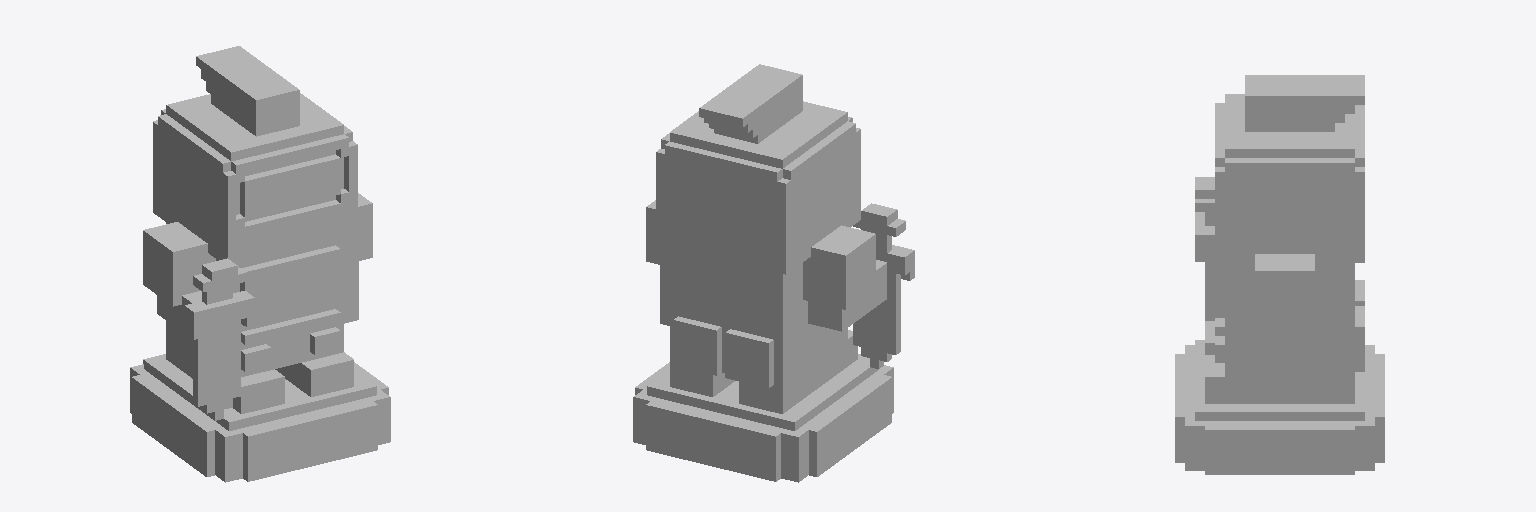
The model's file is Package 01 Necro Dungeon-26.obj.
3 renders of one model, left to right at view 1: azimuth 30°, elevation 25°; view 2: azimuth 150°, elevation 25°; view 3: azimuth 270°, elevation 25°, orthographic.
Parts seen in each view (by area): view 1: object 1; view 2: object 1; view 3: object 1.
Part boxes in pixels (x1,y1,x2,y2): object 1: (130,46,390,482); object 1: (633,64,914,482); object 1: (1175,75,1384,474).
Bounding box in the file's own units: 2.4 × 3.8 × 2.1.